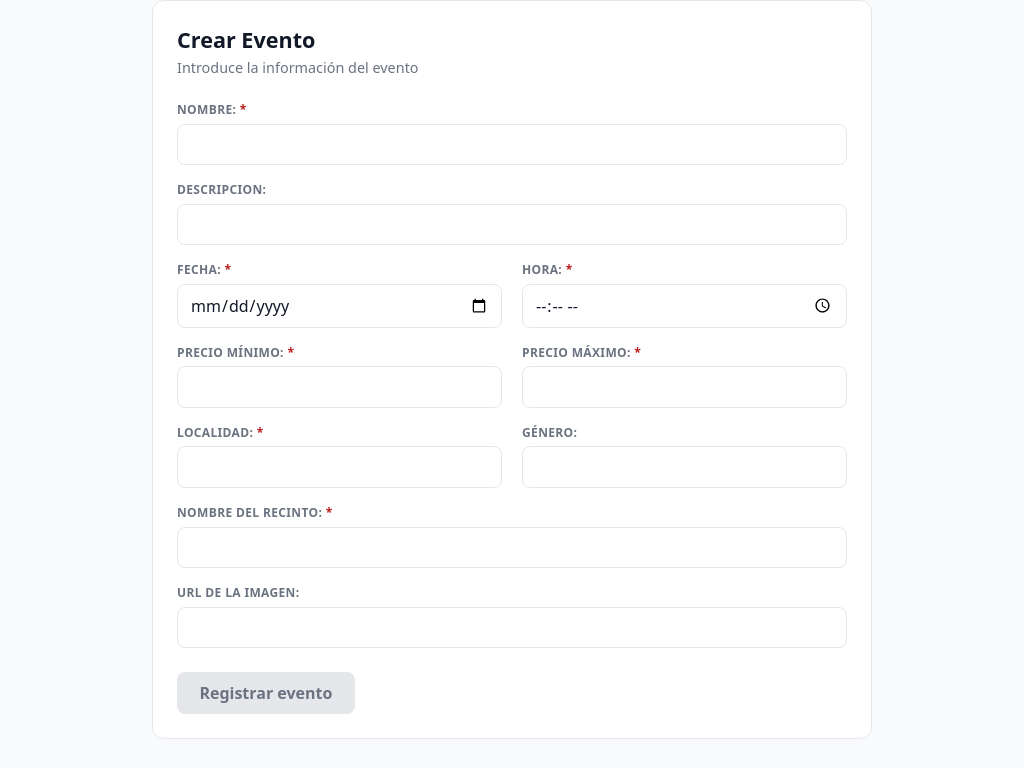
EventForm › validation › shows a success message beneath the button after the event is created
This screenshot has width=1024, height=768.
Type "Jazz Night" into the field labelled "Nombre:".
click(512, 144); type("Jazz Night")  # box [177, 124, 847, 165]
Type "2026-09-12" into the date field labelled "Fecha:".
click(340, 306); type("2026-09-12")  # box [177, 284, 502, 328]
Type "20:30" into the time field labelled "Hora:".
click(684, 306); type("20:30")  # box [522, 284, 847, 328]
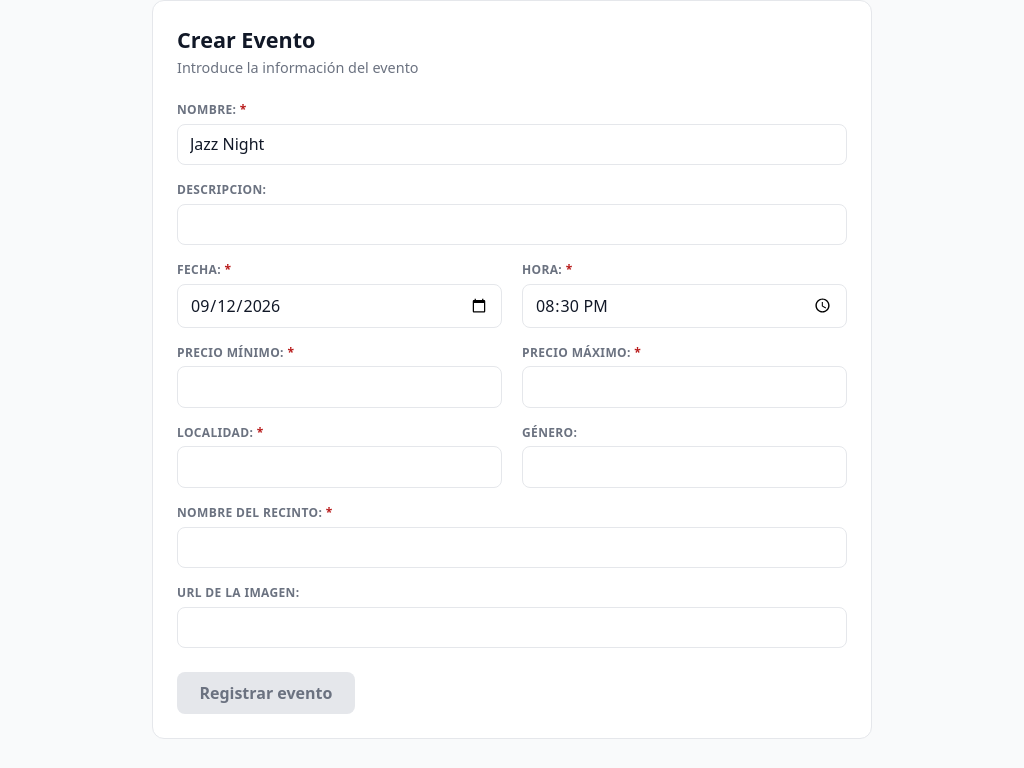
Type "15" into the number field labelled "Precio mínimo:".
click(340, 387); type("15")  # box [177, 366, 502, 408]
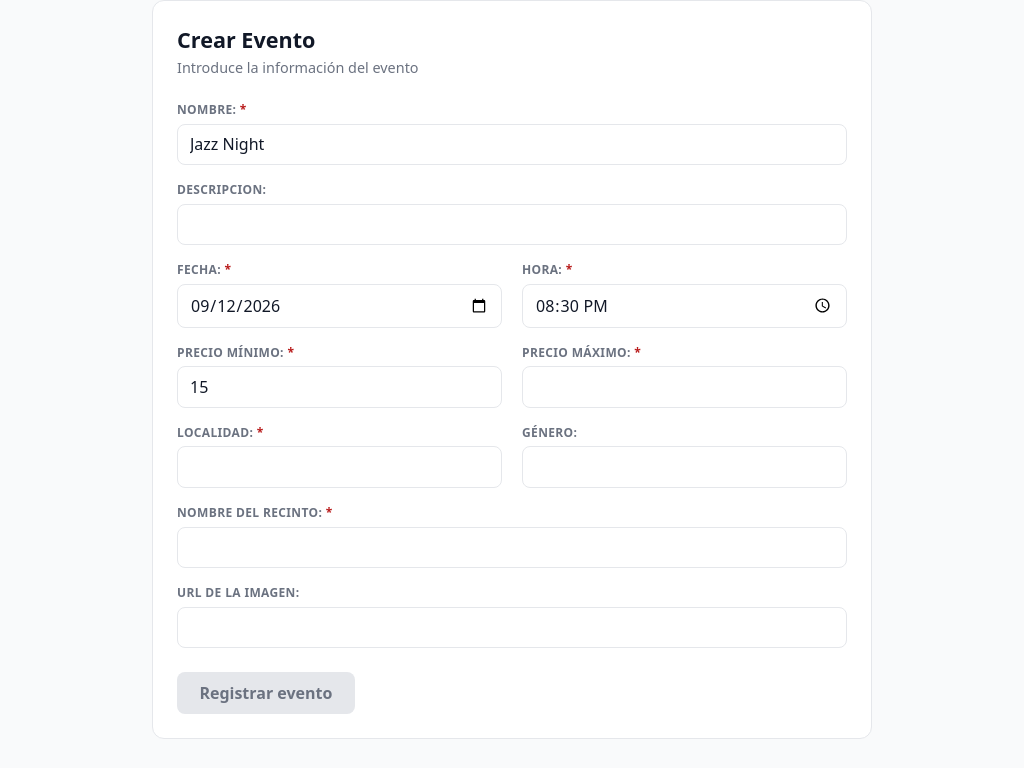
Type "45" into the number field labelled "Precio máximo:".
click(684, 387); type("45")  # box [522, 366, 847, 408]
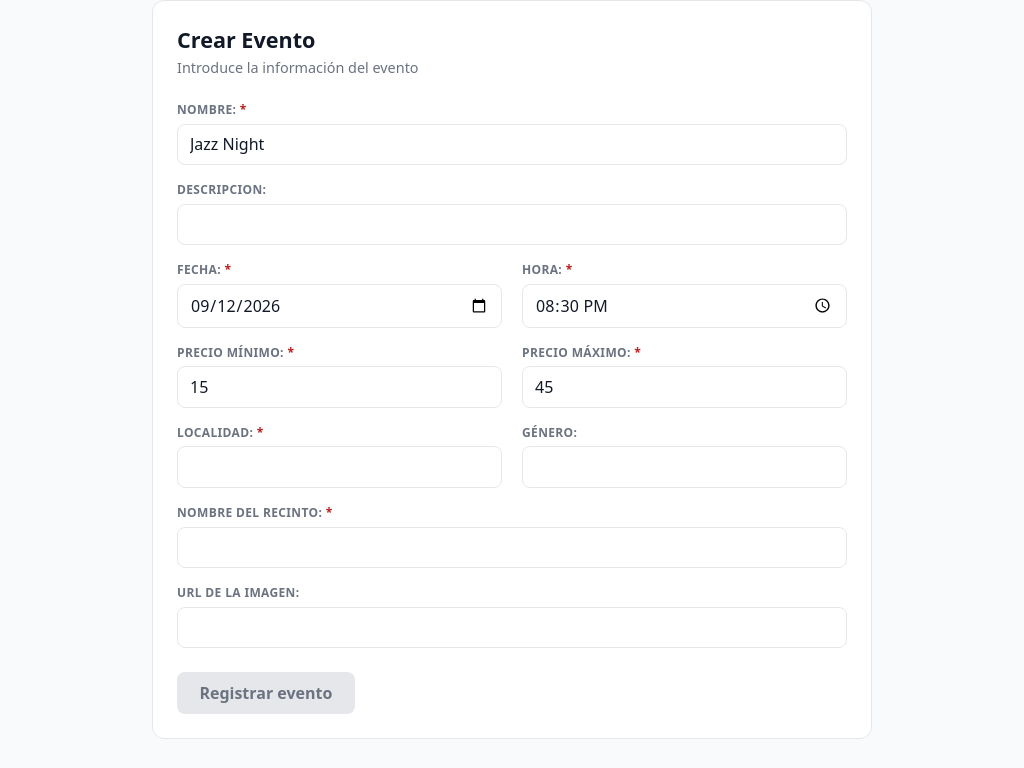
Type "Madrid" into the field labelled "Localidad:".
click(340, 467); type("Madrid")  # box [177, 446, 502, 488]
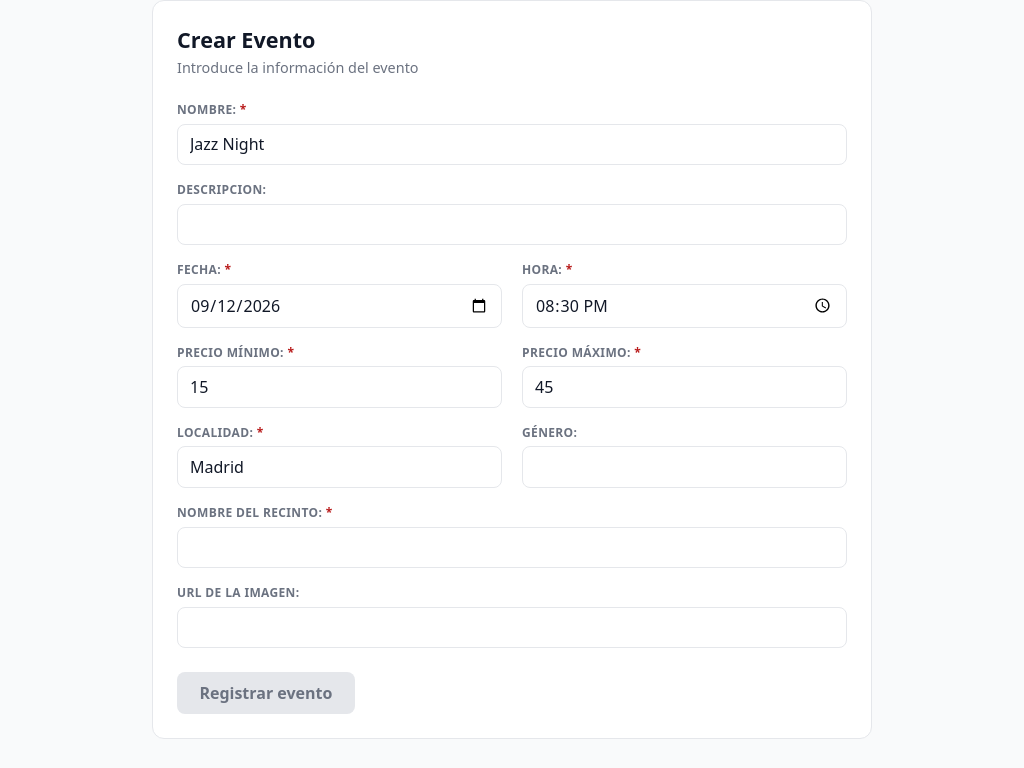
Type "Teatro Real" into the field labelled "Nombre del recinto:".
click(512, 547); type("Teatro Real")  # box [177, 526, 847, 568]
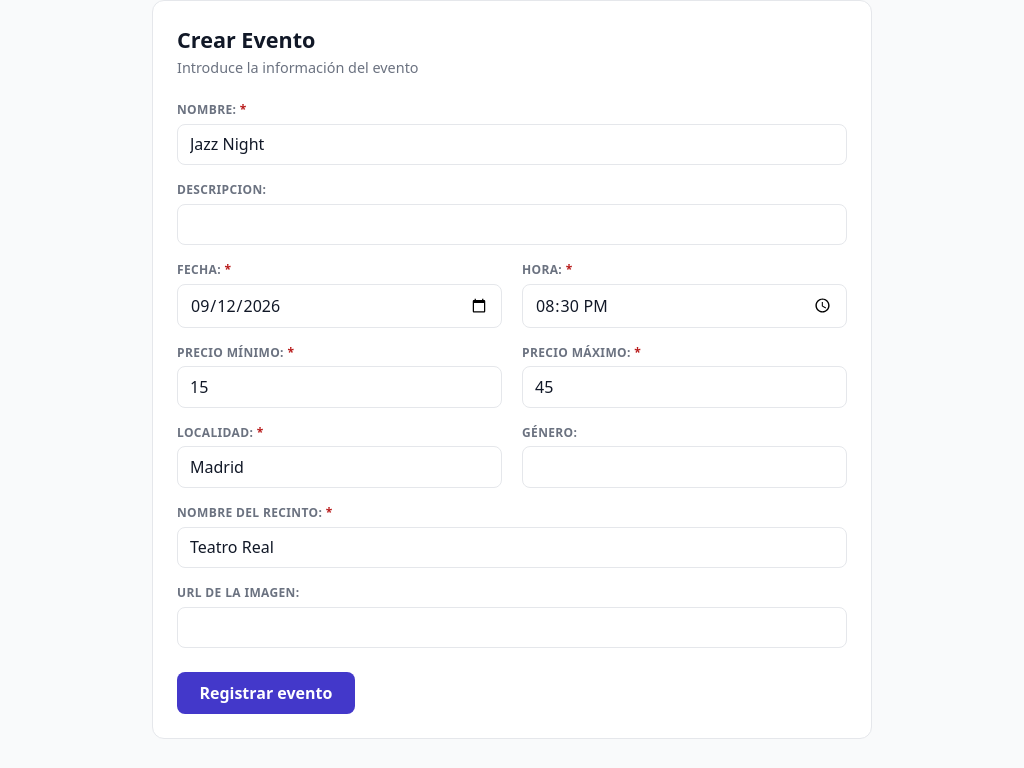
Click the button "Registrar evento".
click(266, 693)  # box [177, 672, 355, 714]
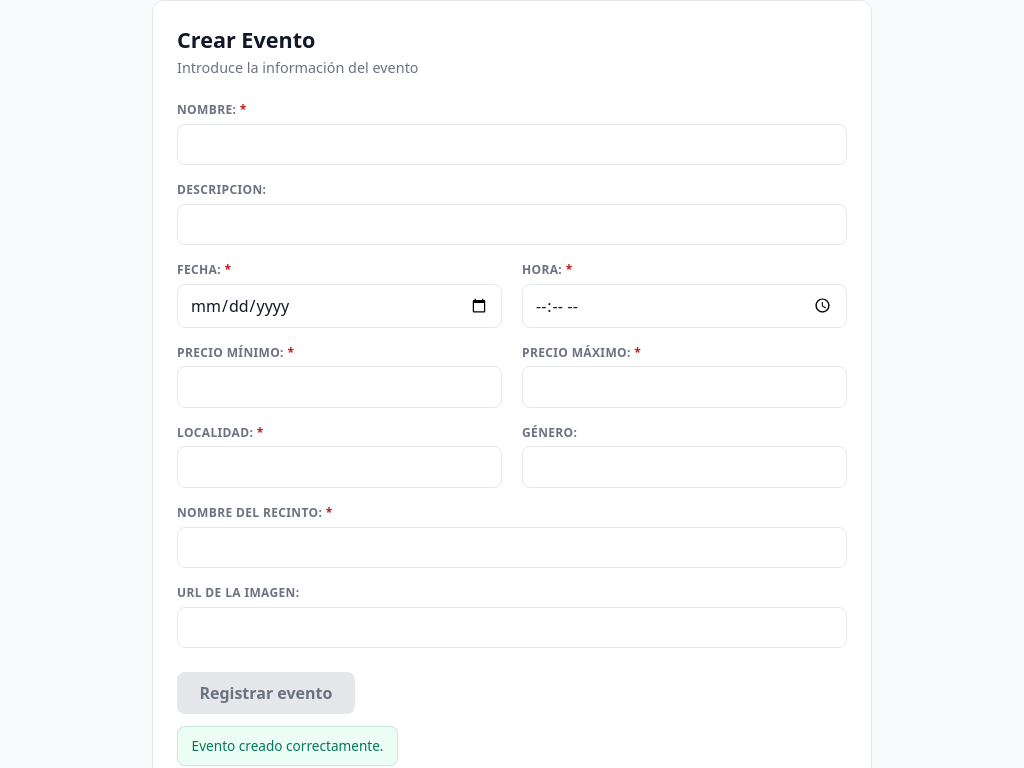
Expected: the message reads "Evento creado correctamente.", [177, 726, 398, 766]
